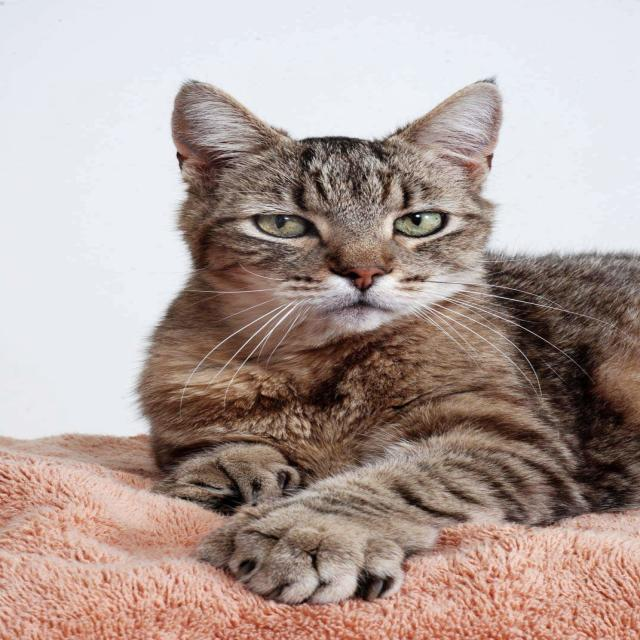cat: (138, 81, 640, 603)
